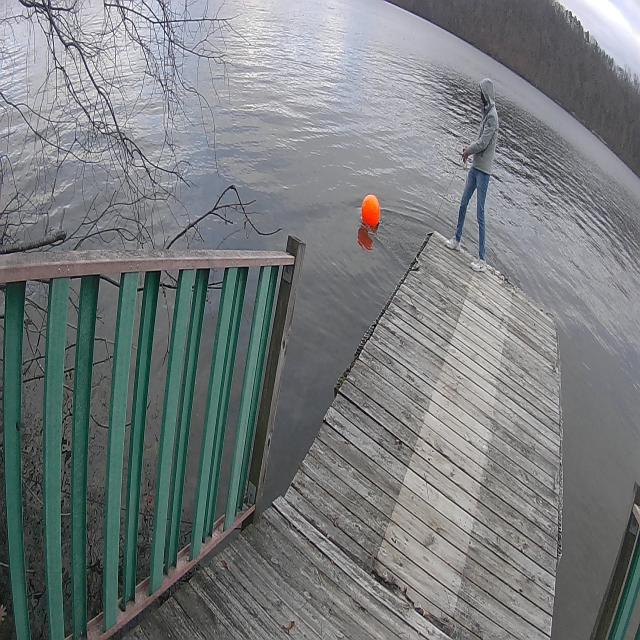Buoy: (360, 191, 382, 236)
